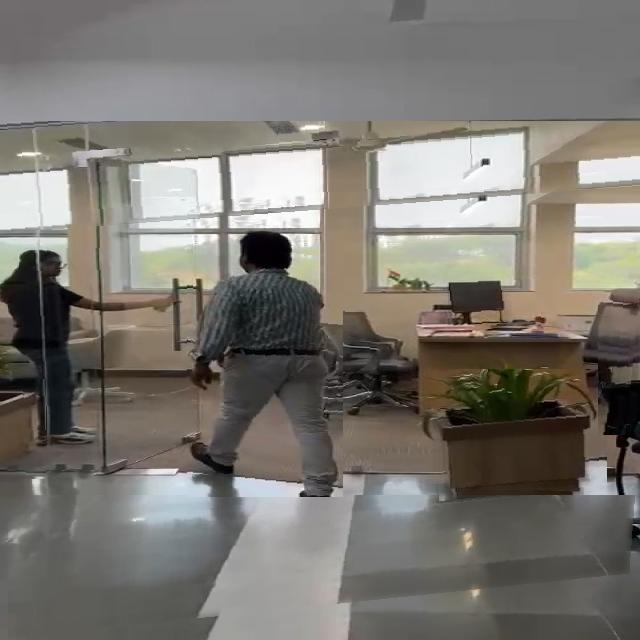floor: (8, 495, 640, 639)
furniture: (433, 369, 607, 501), (331, 302, 415, 407), (598, 290, 640, 435), (443, 275, 541, 330), (0, 378, 46, 479)
moving_object: (187, 243, 343, 498), (13, 248, 102, 471)
wall: (0, 121, 640, 233)
